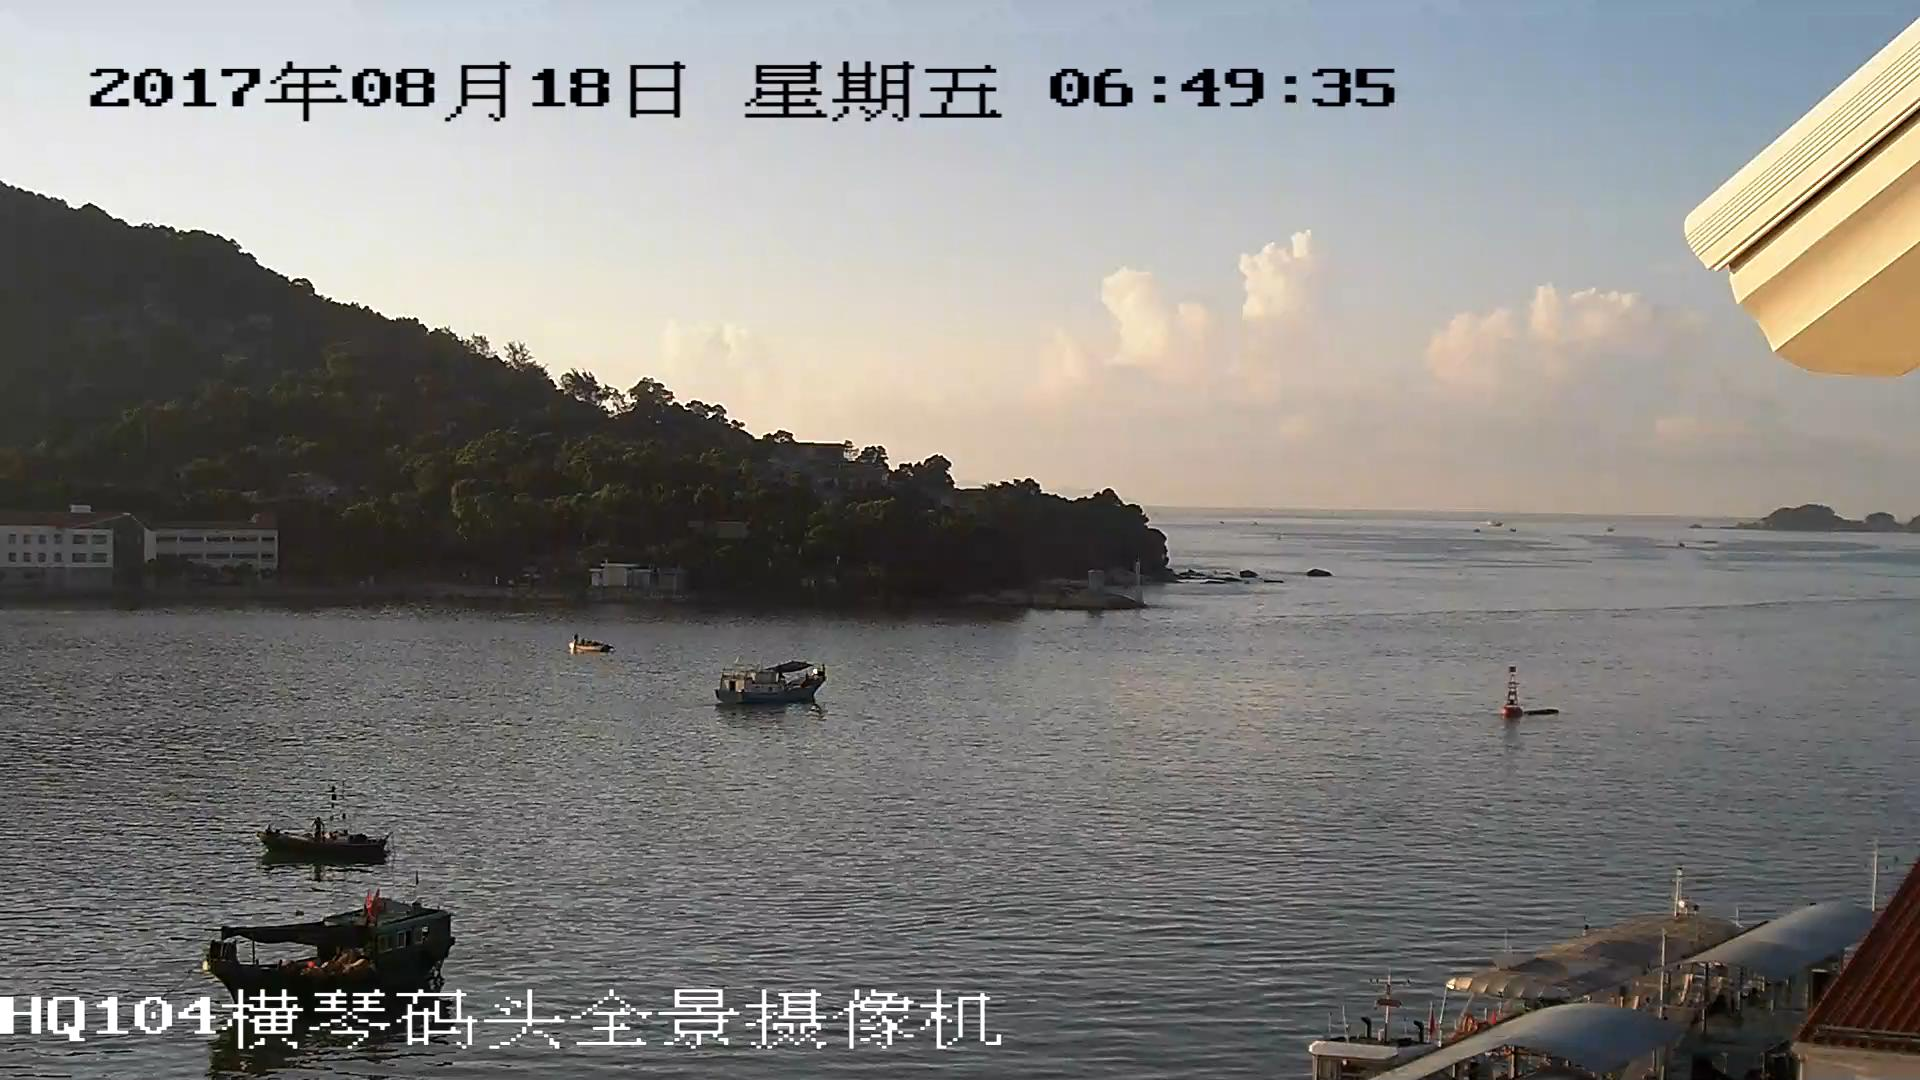fishing boat: (204, 906, 447, 986), (264, 817, 388, 863), (716, 658, 822, 704), (566, 636, 613, 654)
